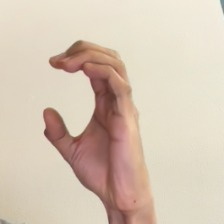C: (32, 33, 169, 222)
